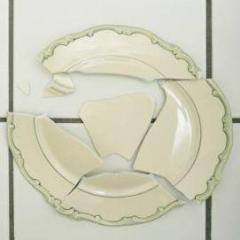glass: (8, 26, 234, 227)
